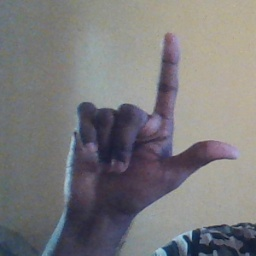L: (59, 32, 241, 217)
